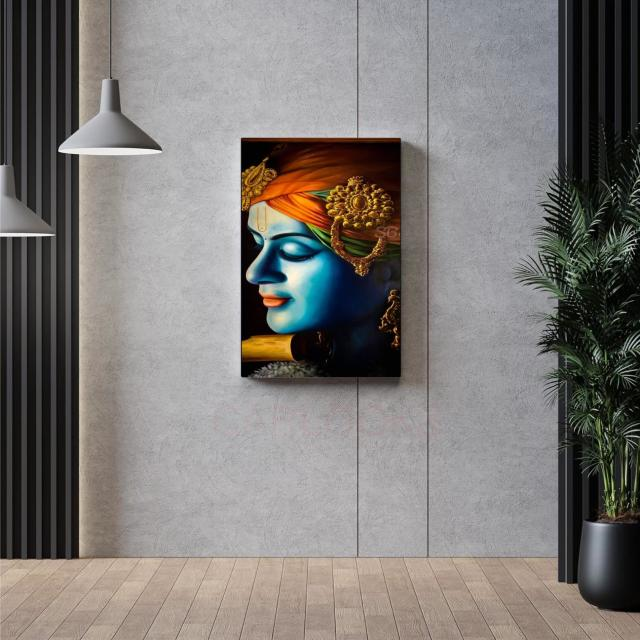painting: (239, 138, 401, 376)
